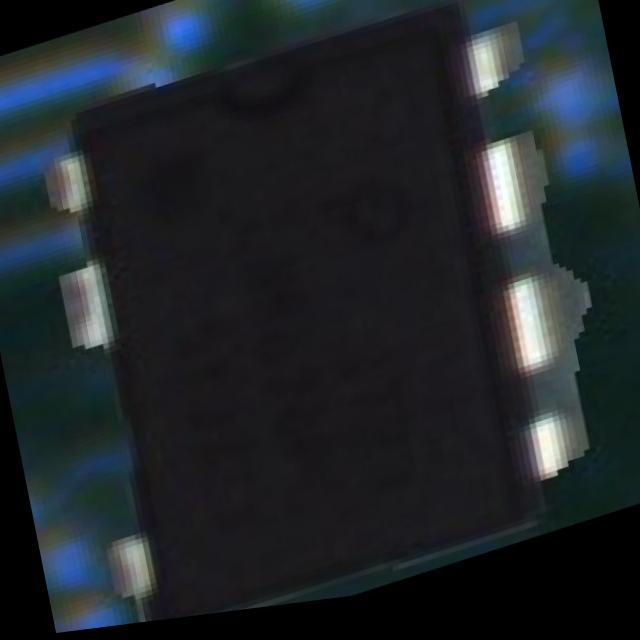IC: (13, 0, 631, 639)
